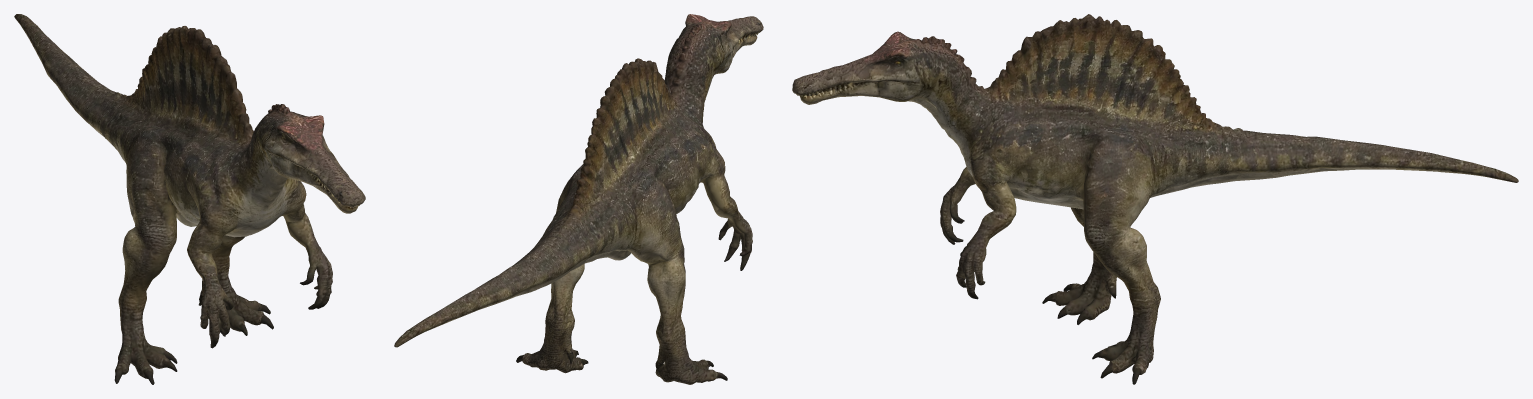
Rendered from spinosaurus.glb.
3 renders of one model, left to right at view 1: azimuth 30°, elevation 25°; view 2: azimuth 150°, elevation 25°; view 3: azimuth 270°, elevation 25°, orthographic. The views are drawn at different scales.
Visible parts, largest first — view 1: dino; view 2: dino; view 3: dino.
Boxes of the visible parts, left/top/right/bottom form: dino: left=14, top=14, right=365, bottom=384; dino: left=394, top=14, right=763, bottom=384; dino: left=792, top=14, right=1518, bottom=384.
Size of the model in its own units: 4.23 by 6.91 by 14.
Materials: 1 (1 with a texture image).
